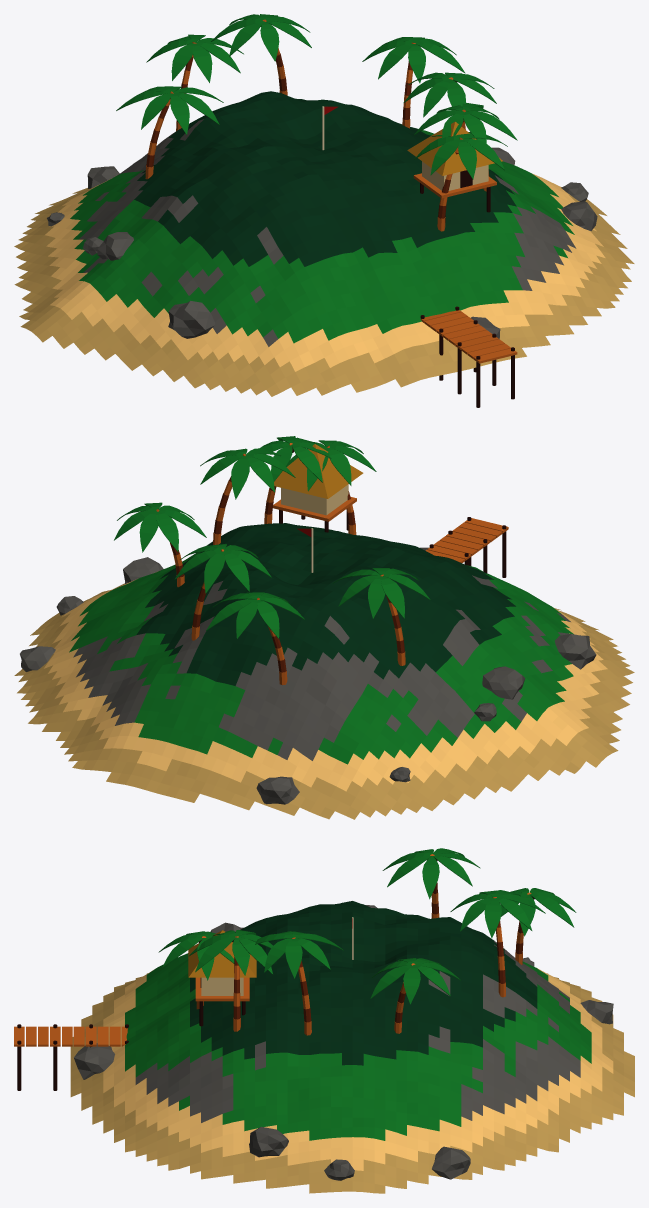
The model's file is turtle_cay.three-web-toon.glb.
The picture shows the model from 3 angles, top to bottom: view 1: azimuth 30°, elevation 25°; view 2: azimuth 150°, elevation 25°; view 3: azimuth 270°, elevation 25°; orthographic projection. The views are drawn at different scales.
Parts seen in each view (by area): view 1: turtle_cay_mesh; view 2: turtle_cay_mesh; view 3: turtle_cay_mesh.
Boxes of the visible parts, bbox=[...] form: turtle_cay_mesh: bbox=[14, 14, 634, 407]; turtle_cay_mesh: bbox=[14, 436, 634, 819]; turtle_cay_mesh: bbox=[14, 848, 634, 1193].
Bounding box in the file's own units: 32.06 × 11.03 × 32.19.
